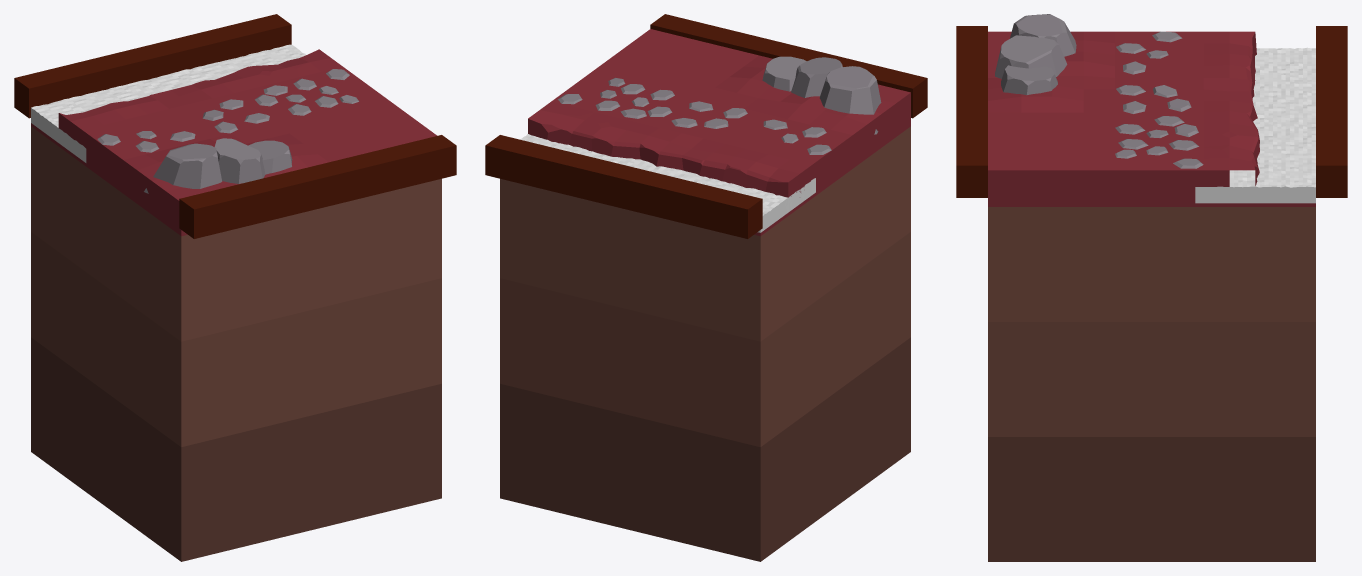
The model's file is Plano2.fbx.
3 renders of one model, left to right at view 1: azimuth 30°, elevation 25°; view 2: azimuth 150°, elevation 25°; view 3: azimuth 270°, elevation 25°, orthographic. The views are drawn at different scales.
Visible parts, largest first — view 1: Plane.051, Plane.030, Cube.1712, Plane.031, 3Pedras.003, 3Pedras.002, 3Pedras.001; view 2: Plane.051, Plane.030, Cube.1712, Plane.031, 3Pedras.003, 3Pedras.002, 3Pedras.001; view 3: Plane.051, Plane.030, Cube.1712, Plane.031, 3Pedras.002, 3Pedras.003, 3Pedras.001.
Boxes of the visible parts, <box> form: Plane.051: <box>31,126,441,561</box>; Plane.030: <box>31,49,437,236</box>; Cube.1712: <box>14,14,456,238</box>; Plane.031: <box>31,44,305,162</box>; 3Pedras.003: <box>144,143,222,193</box>; 3Pedras.002: <box>214,138,265,183</box>; 3Pedras.001: <box>248,140,292,174</box>; Plane.051: <box>500,126,910,561</box>; Plane.030: <box>528,29,910,236</box>; Cube.1712: <box>485,14,927,238</box>; Plane.031: <box>520,134,815,232</box>; 3Pedras.003: <box>819,66,881,134</box>; 3Pedras.002: <box>791,57,842,97</box>; 3Pedras.001: <box>762,56,806,91</box>; Plane.051: <box>988,207,1315,561</box>; Plane.030: <box>988,31,1315,206</box>; Cube.1712: <box>956,26,1347,197</box>; Plane.031: <box>1195,47,1315,203</box>; 3Pedras.002: <box>995,35,1067,78</box>; 3Pedras.003: <box>1010,14,1076,56</box>; 3Pedras.001: <box>1001,65,1057,95</box>.
Bounding box in the file's own units: 806 × 1130 × 955.
